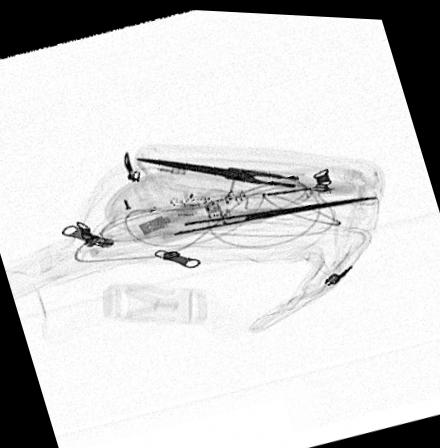Scissors: (165, 185, 382, 238), (131, 152, 306, 189)
